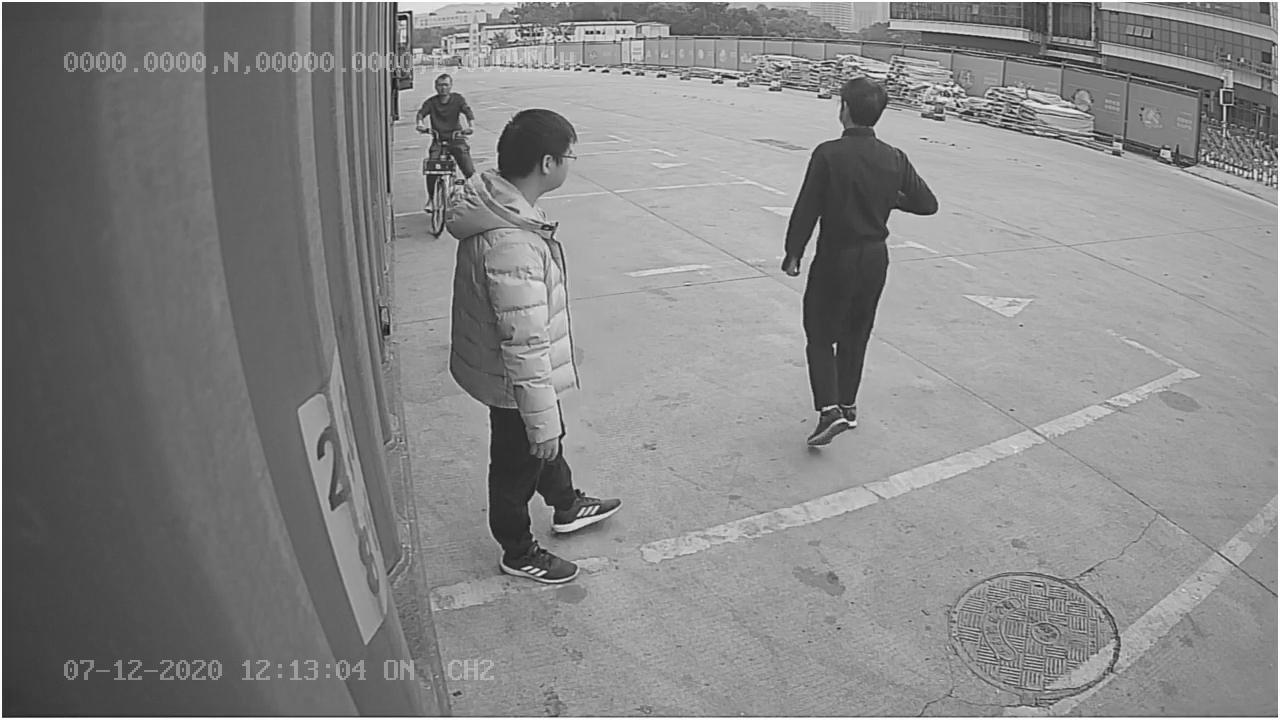person: (442, 98, 648, 594), (780, 73, 932, 452)
